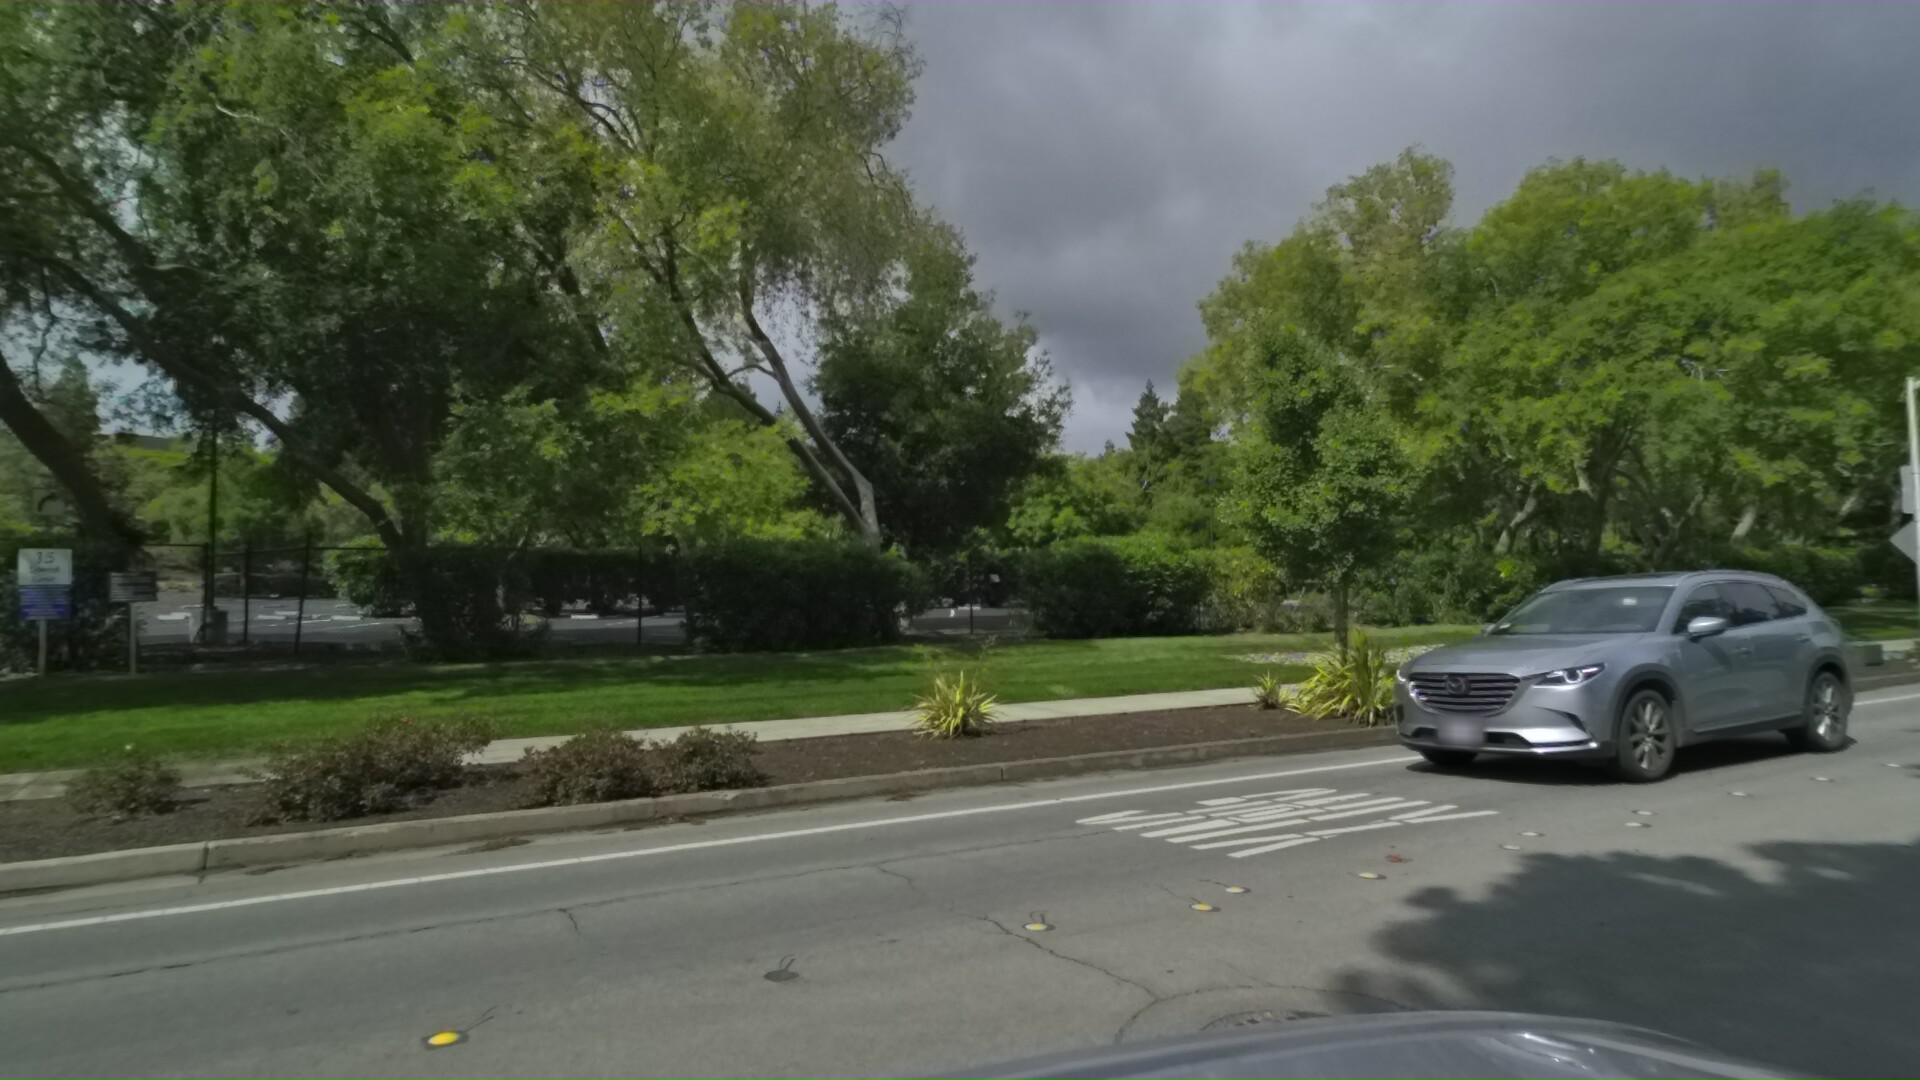car: (1244, 553, 1821, 829)
